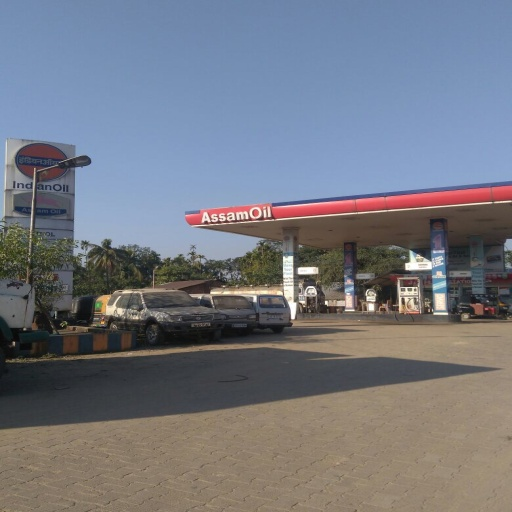roof: (185, 179, 512, 247)
